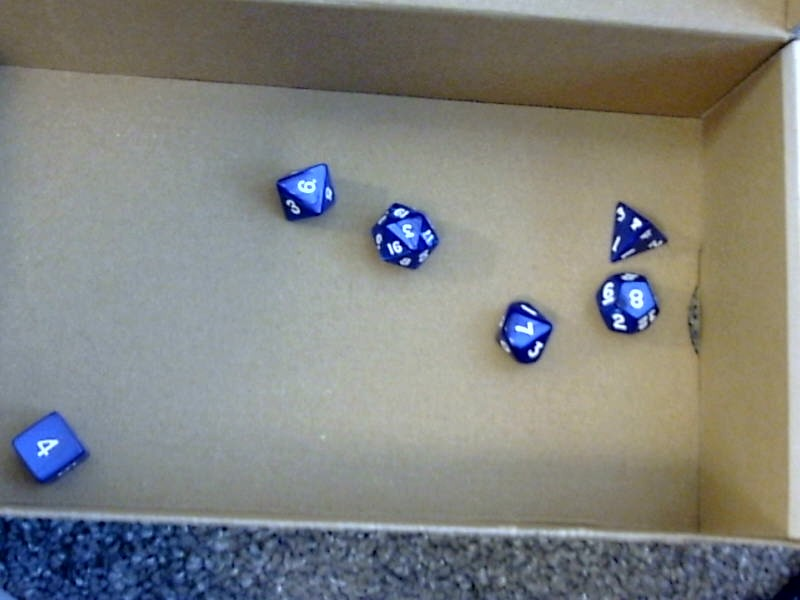d10 7: (492, 293, 555, 370)
d12 8: (597, 267, 660, 336)
d20 3: (365, 196, 440, 273)
d4 4: (606, 199, 669, 266)
d6 4: (7, 404, 91, 490)
d8 6: (274, 158, 338, 222)
